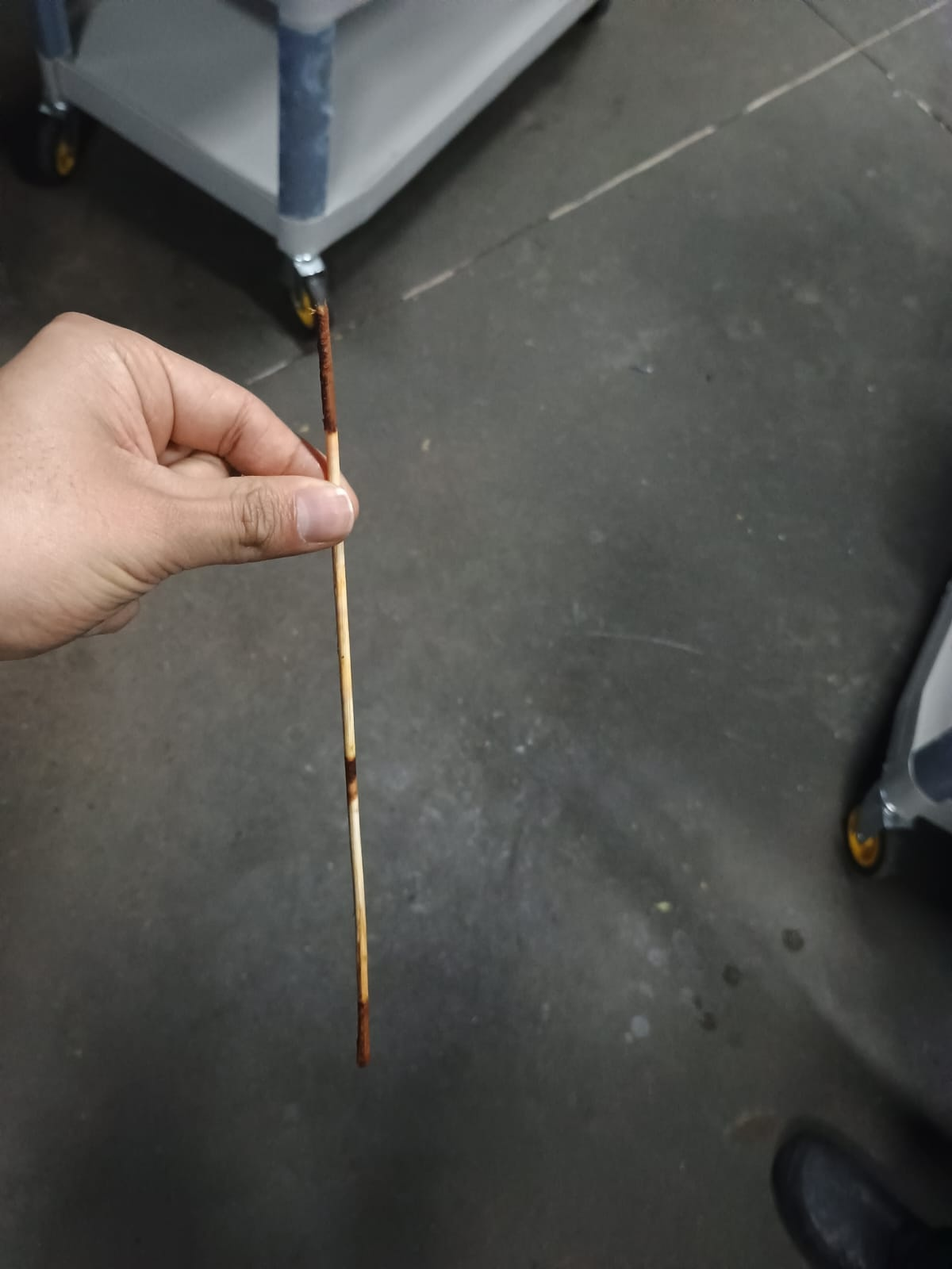Ordinario: (292, 255, 386, 1073)
